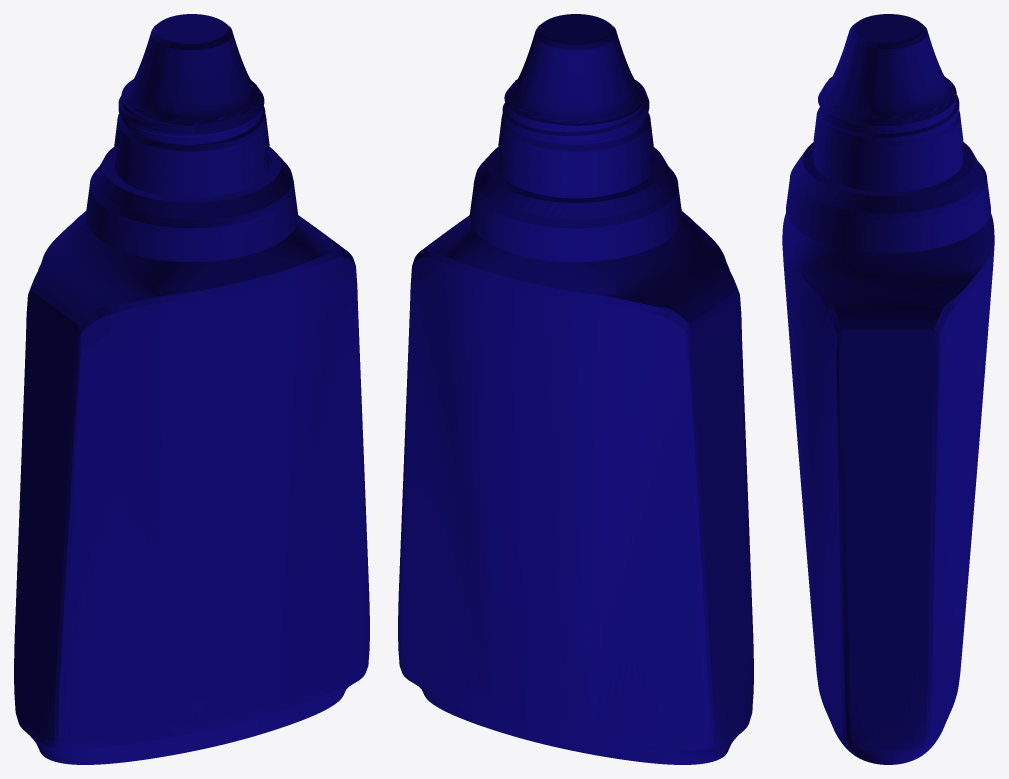
File: Alltogether.glb
The picture shows the model from 3 angles, left to right: view 1: azimuth 30°, elevation 25°; view 2: azimuth 150°, elevation 25°; view 3: azimuth 270°, elevation 25°; orthographic projection. The views are drawn at different scales.
Visible parts, largest first — view 1: Node1; view 2: Node1; view 3: Node1.
Boxes of the visible parts, box(x1,y1,x2,y2) form: Node1: box(14, 14, 369, 764); Node1: box(398, 14, 753, 764); Node1: box(782, 14, 994, 764).
Size of the model in its own units: 114 by 236 by 67.97.
